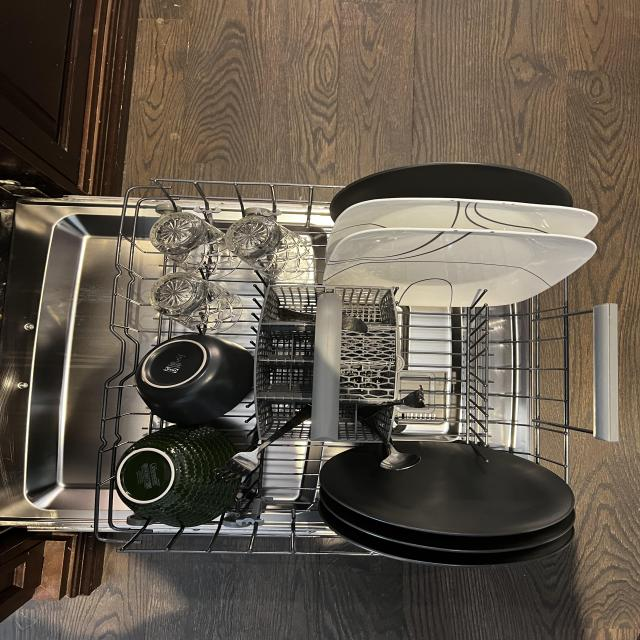Bowl: (116, 426, 244, 528), (133, 331, 255, 426)
Fork: (212, 402, 311, 483), (362, 383, 427, 412)
Glass: (150, 212, 242, 283), (224, 214, 315, 284), (150, 271, 243, 335)
Knife: (278, 308, 370, 336)
Plate: (322, 436, 580, 537), (324, 227, 598, 311)
Spoon: (352, 406, 422, 470)
